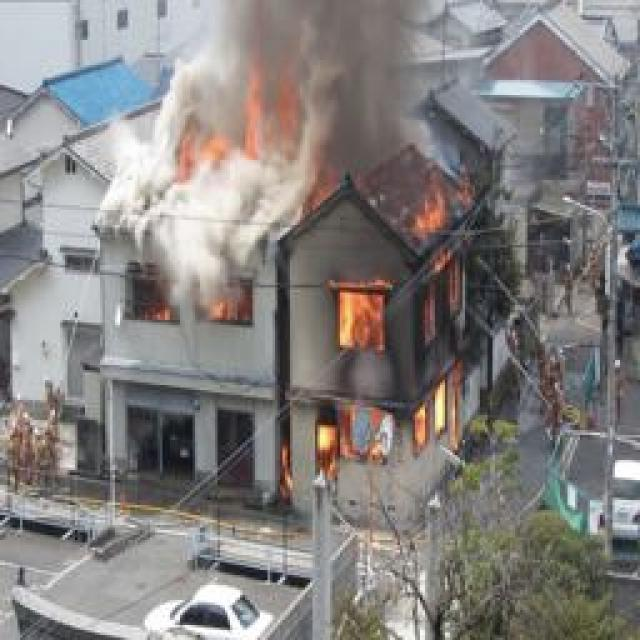Fire: (313, 172, 475, 491), (180, 97, 308, 167), (201, 305, 250, 325)
